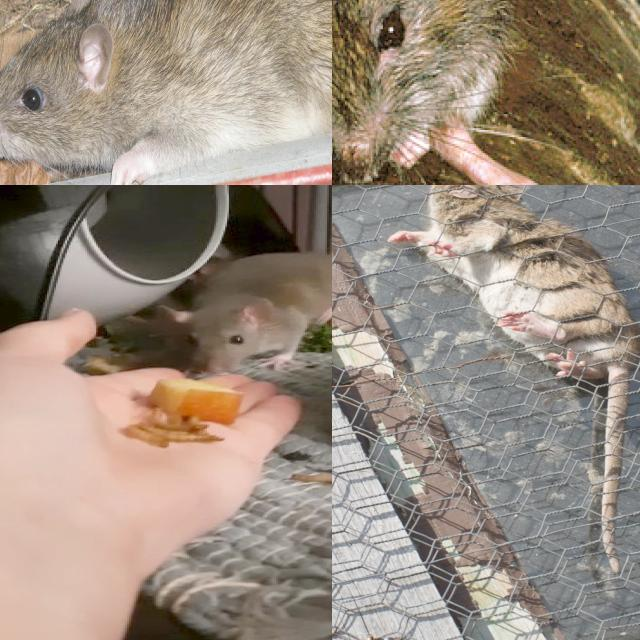rat: (0, 0, 332, 185), (332, 0, 578, 185), (411, 185, 640, 368), (152, 249, 332, 379)
